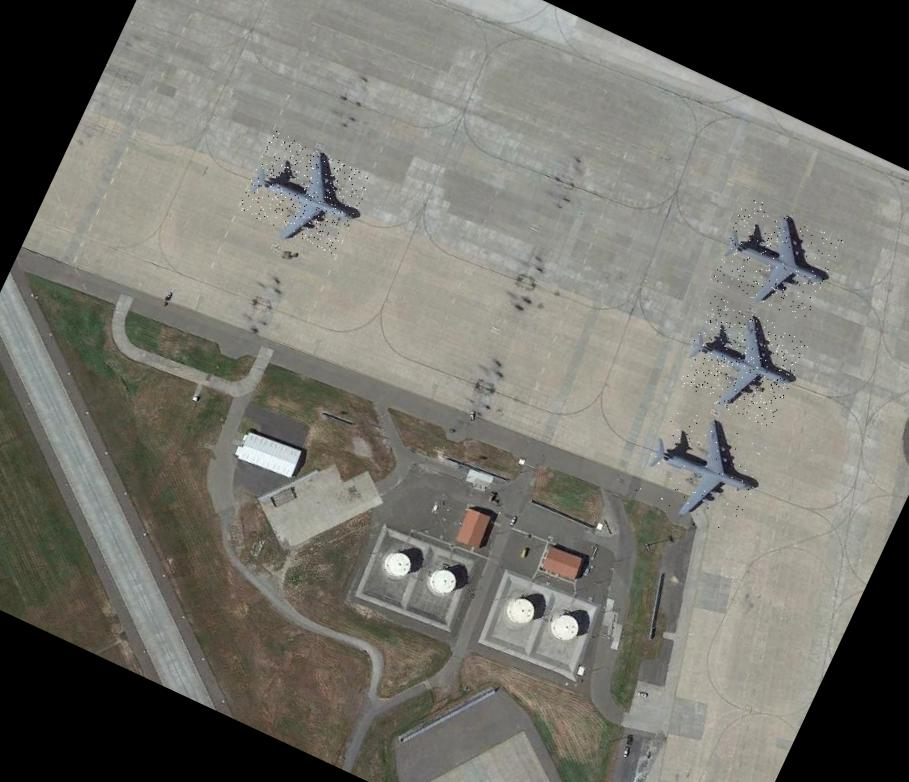A4: (633, 401, 774, 536), (670, 295, 810, 429), (707, 194, 843, 324), (236, 130, 372, 256)
